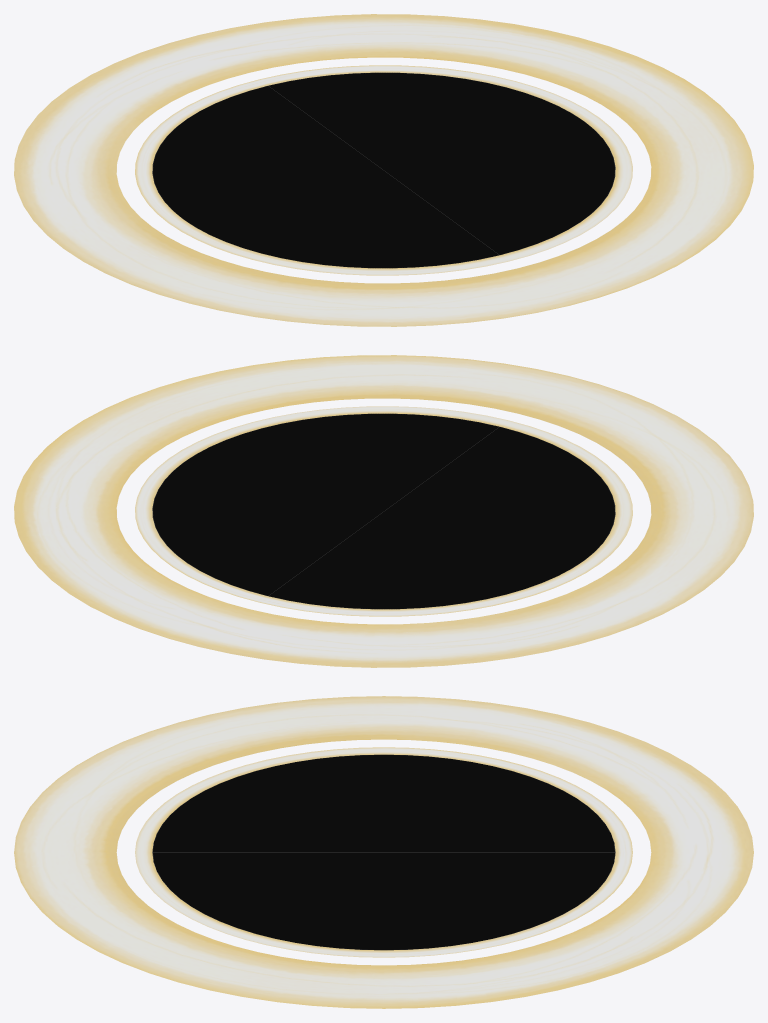
File: blackhole.obj
3 views of the same model, one above another, from view 1: azimuth 30°, elevation 25°; view 2: azimuth 150°, elevation 25°; view 3: azimuth 270°, elevation 25° (orthographic).
Parts seen in each view (by area): view 1: Circle; view 2: Circle; view 3: Circle.
Part boxes in pixels (x1,y1,x2,y2): Circle: (14, 14, 753, 326); Circle: (14, 355, 753, 667); Circle: (14, 696, 753, 1008).
Size of the model in its own units: 8.31 by 0 by 8.31.
